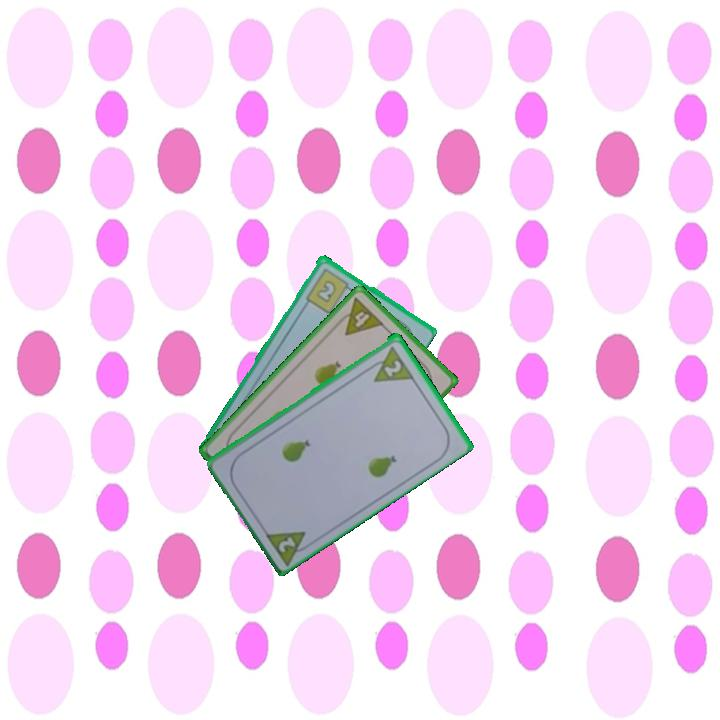2b: (302, 264, 356, 316)
2p: (380, 356, 405, 379), (274, 532, 299, 555)
4p: (332, 294, 387, 338)
